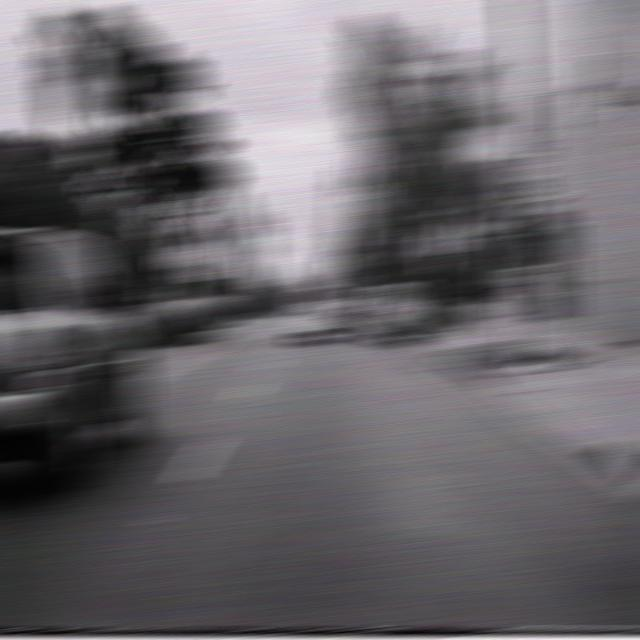speedLimit35: (510, 149, 551, 204)
